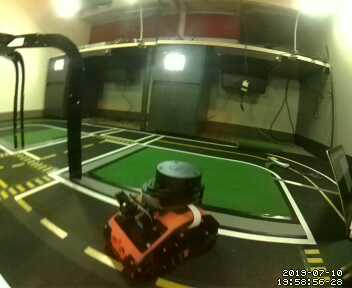pheeno: (102, 156, 222, 286)
